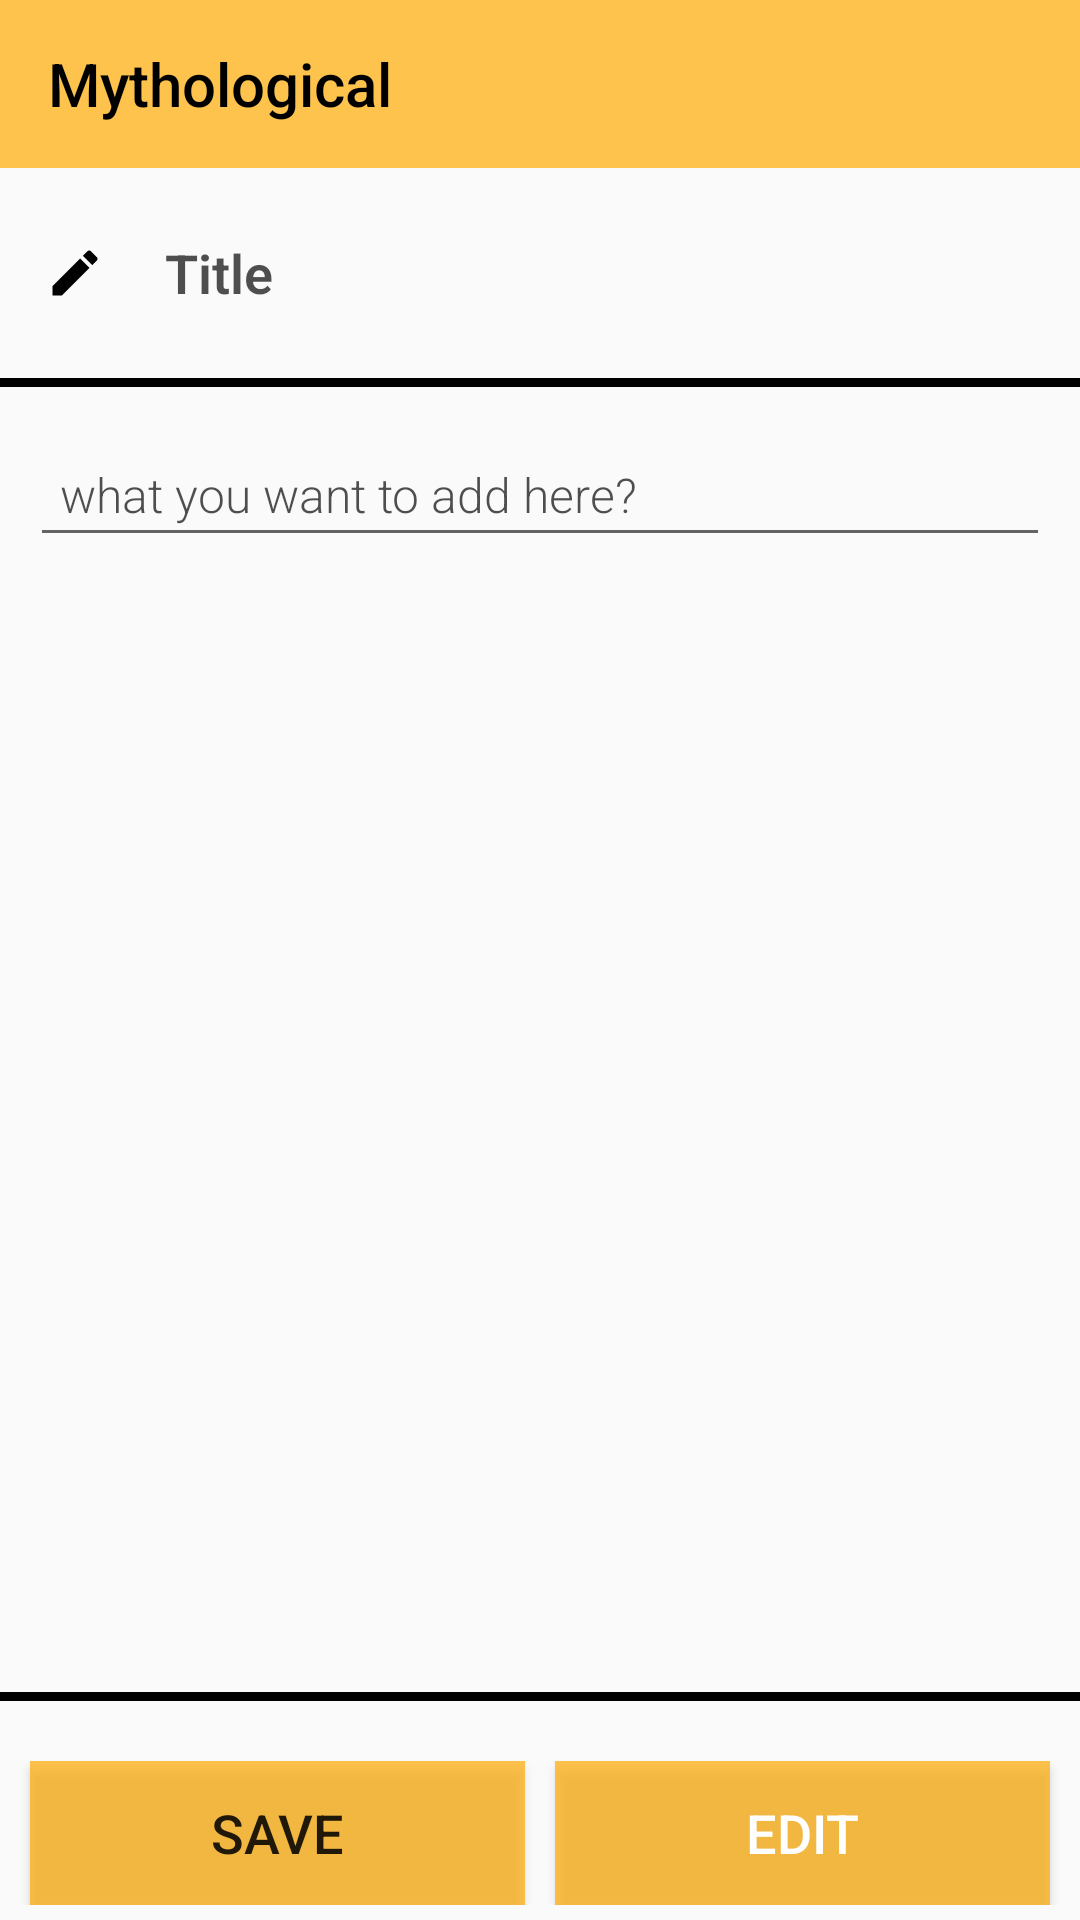

Locate icon controls on the screen. Image size 1080x1920, boxes as [left=x1, top=y1, right=x2, bottom=y2].
create: [left=52, top=250, right=98, bottom=296]
